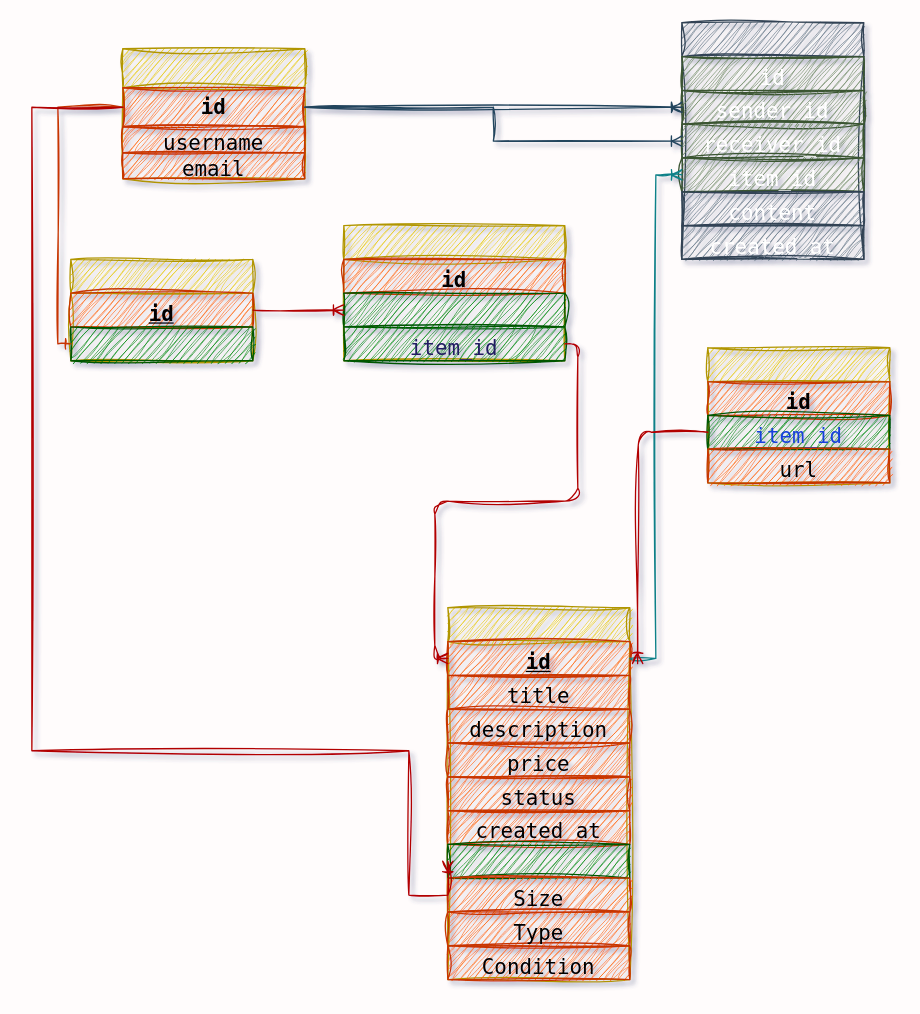
This 920x1014 diagram has some shape labels left out. The shapes that lost their labels are listed below. From the top down, each one's box as (x1, y1, x2, y2) in pixels, then its label:
(122, 47, 305, 179): users
(681, 21, 864, 259): message
(70, 258, 253, 361): wishlist
(343, 224, 565, 361): wishlisted_items
(343, 292, 565, 327): wishlist_id
(70, 326, 253, 361): user_id
(707, 346, 890, 483): photo
(447, 606, 630, 980): items
(447, 843, 630, 878): seller_id
